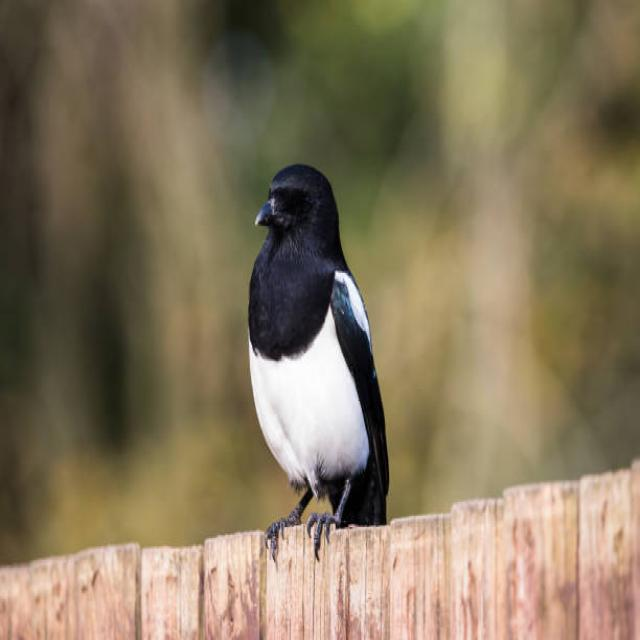Magpie: (246, 163, 392, 562)
